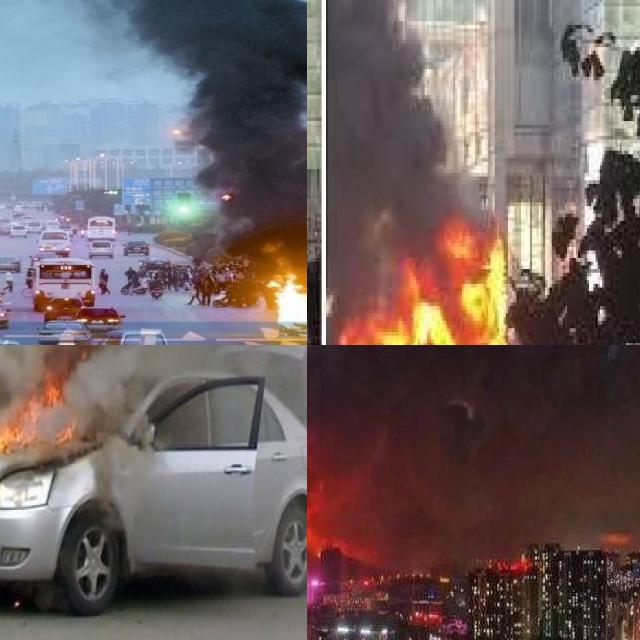fire: (336, 224, 534, 345), (0, 345, 117, 484), (269, 272, 307, 338)
smoke: (0, 0, 307, 261), (307, 345, 640, 547), (326, 0, 477, 306)
